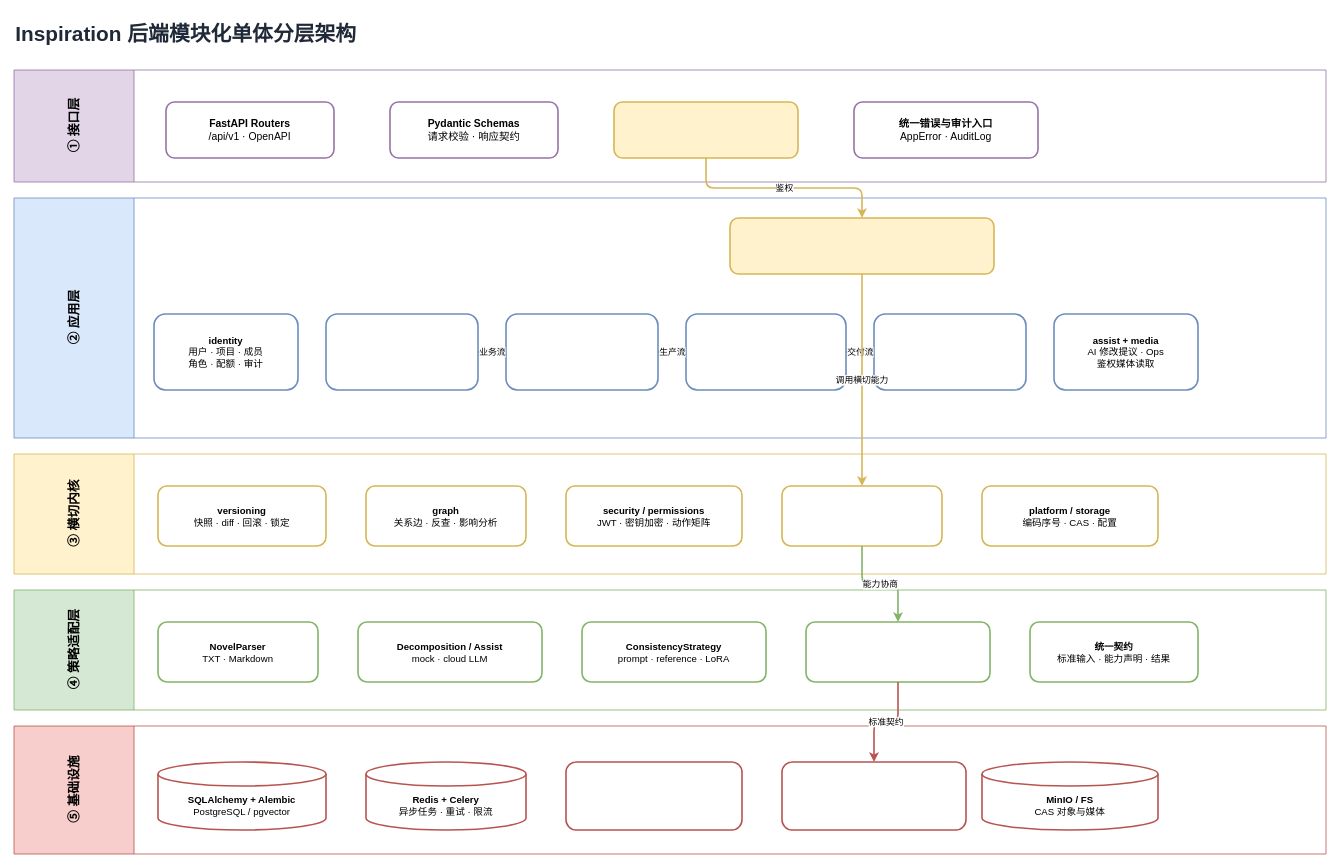
This 1340x868 diagram has some shape labels left out. The shapes that lost their labels are listed below. From the top down, each one's centre as x and y in pixels, then its label:
(x=705, y=129): 权限网关 JWT · 项目 RBAC · 依赖注入
(x=861, y=245): 应用服务 / 事务编排 跨模块用例 · 权限检查 · 一致性边界
(x=401, y=351): narrative + setting 小说 · 章节 · 剧本 场次 · 故事圣经
(x=581, y=351): asset + prompt 资产 · 参考图 · 提示词 视觉身份 · BOM
(x=765, y=351): shot + generation 镜头 · 分镜 · 状态机 生成任务 · 变体 · 成本
(x=949, y=351): review + timeline 批注 · 返修 · 时间线 成片 · 基线
(x=861, y=515): registry 策略注册 · 能力协商
(x=897, y=651): GenerationProvider mock · GPT Image · 即梦
(x=653, y=795): Fernet 凭据库 项目级供应商密钥
(x=873, y=795): 外部 API 云 LLM · GPT Image · 即梦
